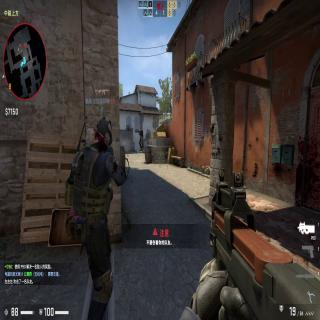CT-Body: (65, 118, 127, 221)
CT-Head: (96, 117, 113, 148)
T-Body: (138, 127, 144, 150)
T-Head: (140, 127, 142, 131)
